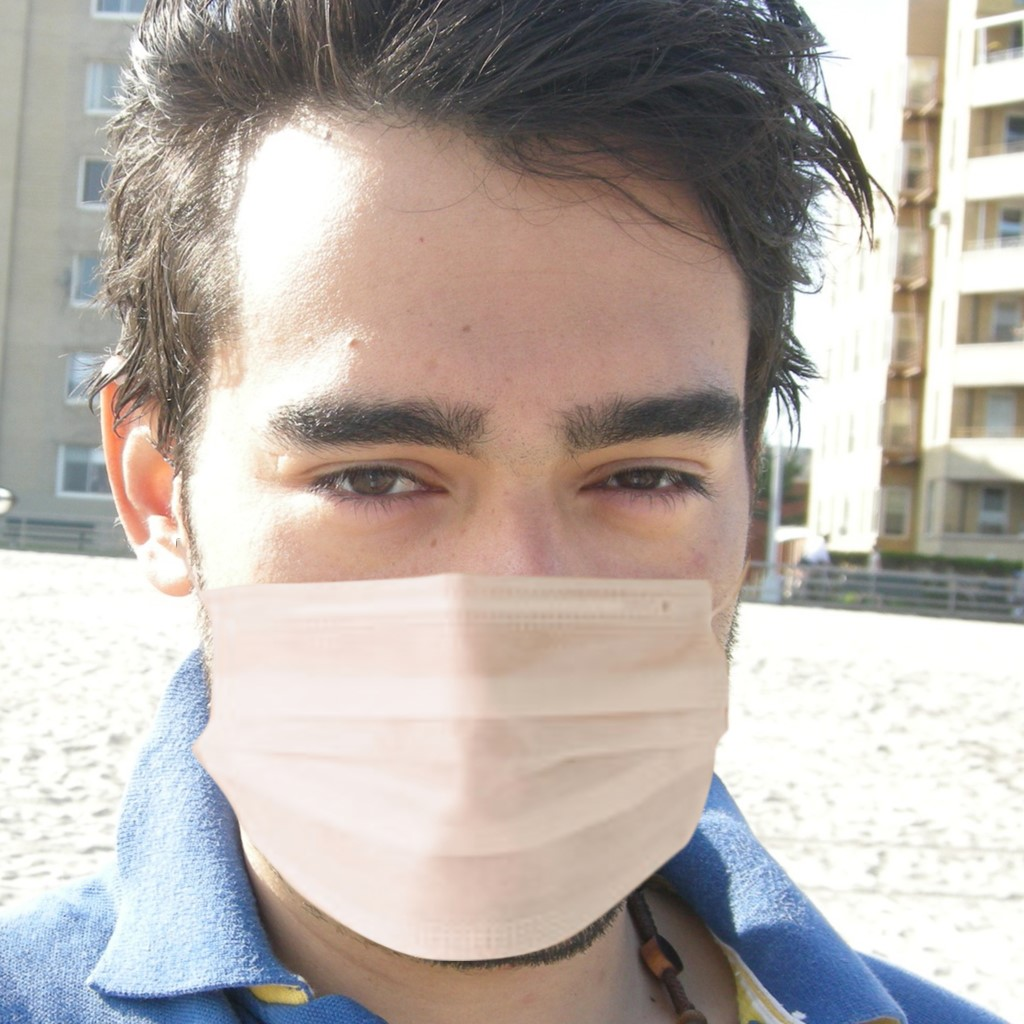con_mascara: (147, 85, 769, 962)
